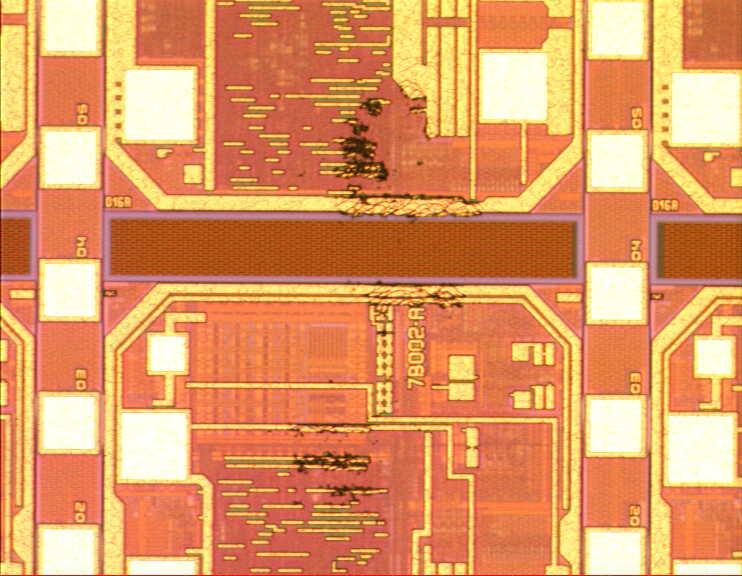SCRATCH: (285, 88, 481, 506)
